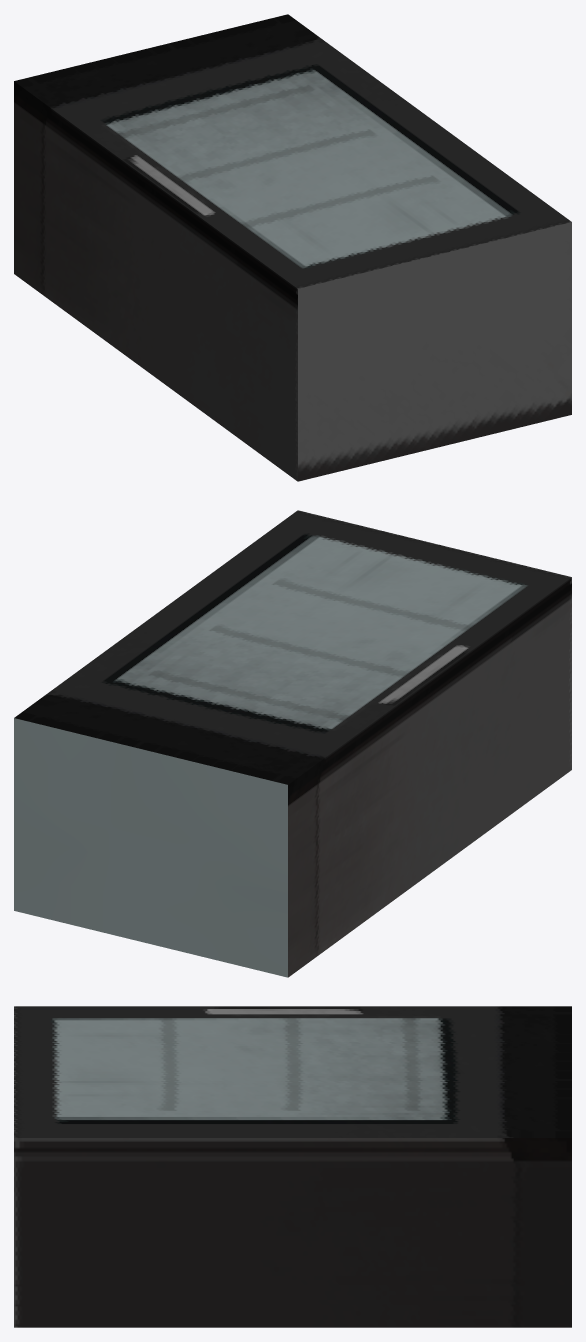
The model's file is pz_g016_industrial_fridge.obj.
3 views of the same model, one above another, from view 1: azimuth 30°, elevation 25°; view 2: azimuth 150°, elevation 25°; view 3: azimuth 270°, elevation 25° (orthographic).
Visible parts, largest first — view 1: native_component_0_y+, native_component_0_x-, native_component_0_z+; view 2: native_component_0_y+, native_component_0_x-, native_component_0_z-; view 3: native_component_0_x+, native_component_0_y+.
Boxes of the visible parts, x1,y1,x2,y2 form: native_component_0_y+: [14, 14, 571, 288]; native_component_0_x-: [14, 81, 297, 481]; native_component_0_z+: [298, 222, 571, 481]; native_component_0_y+: [14, 510, 571, 784]; native_component_0_x-: [288, 577, 571, 977]; native_component_0_z-: [14, 718, 287, 977]; native_component_0_x+: [14, 1138, 571, 1327]; native_component_0_y+: [14, 1006, 571, 1137].
Size of the model in its own units: 0.9006 by 0.6052 by 1.62.
Materials: 1 (1 with a texture image).
